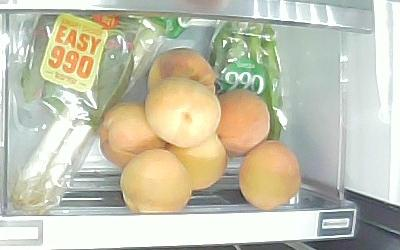peach: (146, 77, 221, 146), (99, 101, 170, 166), (120, 149, 191, 212), (240, 141, 301, 208), (149, 48, 216, 106), (211, 90, 270, 155), (166, 132, 227, 188)
